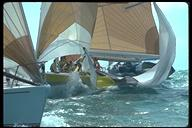sailboat: (36, 3, 179, 96), (4, 3, 51, 128)
sky: (177, 2, 187, 70)
water: (48, 97, 187, 125)
